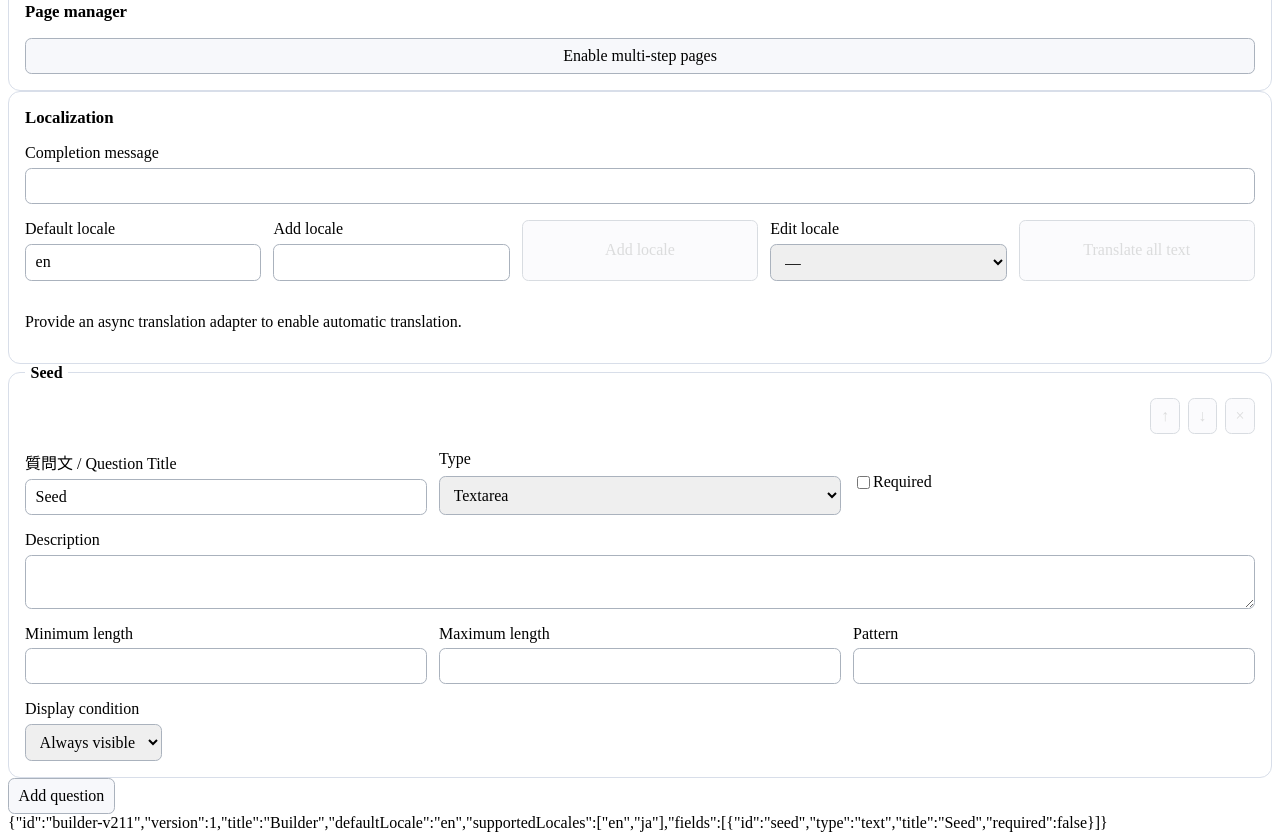
Test: FormBuilder v2.1.1 › uses the first allowed type when text is disallowed
(page scrolled)
Step 1. Click the button "Add question" → (62, 796), box [8, 778, 115, 814]
(page scrolled)
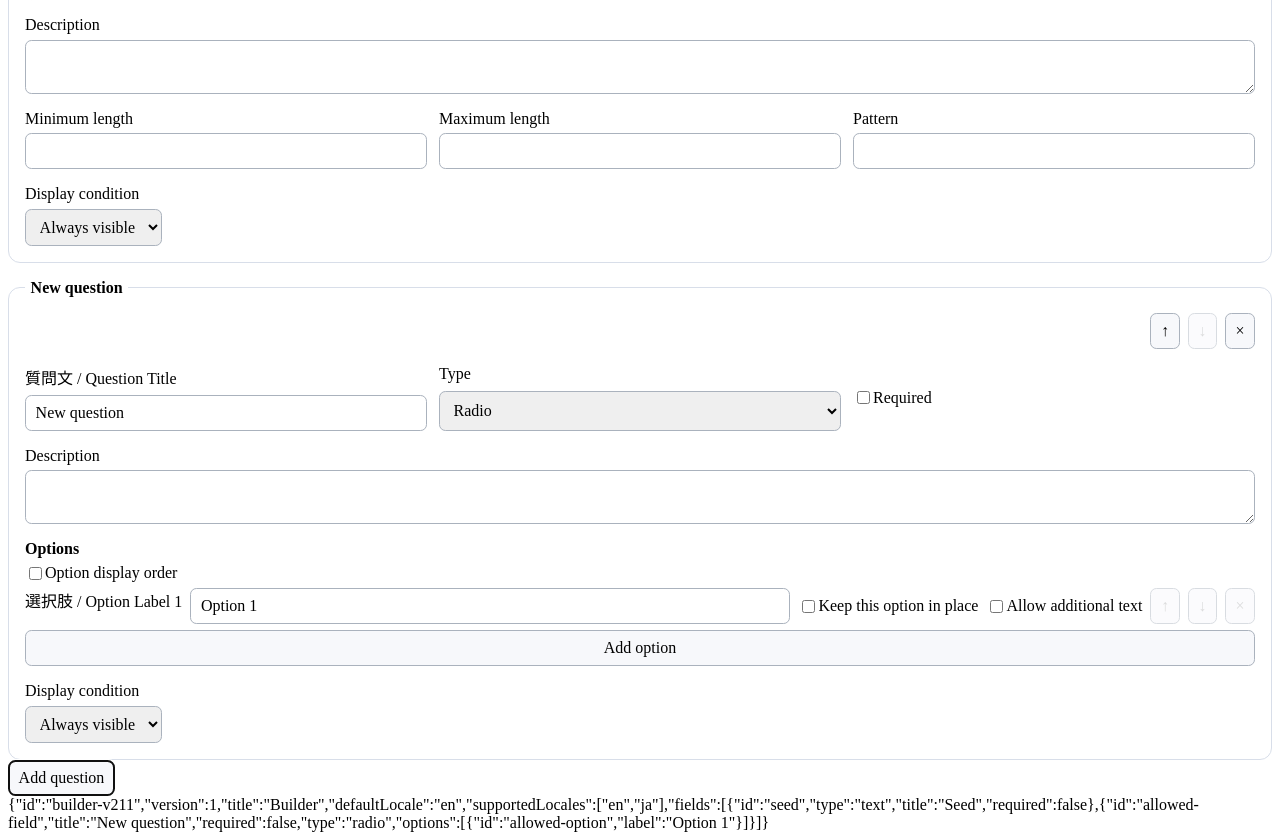
Check: the text with test id "schema-state" shows "\"type\":\"radio\"", box [8, 796, 1199, 830]
